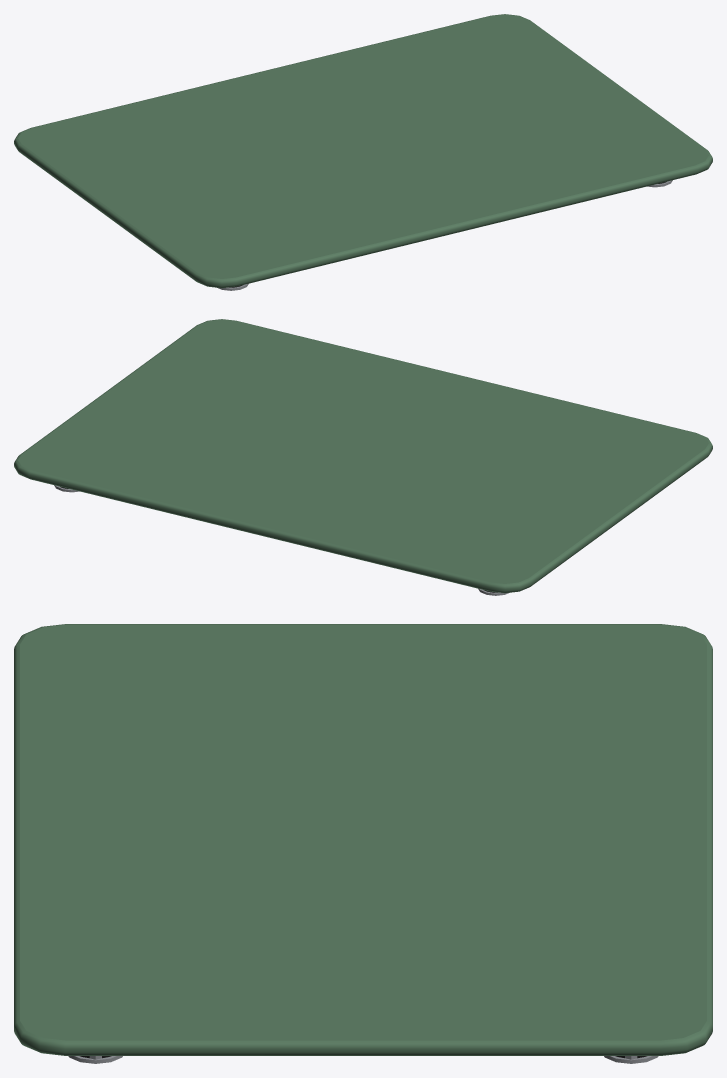
Rendered from t60_mounts.obj.
3 renders of one model, top to bottom at view 1: azimuth 30°, elevation 25°; view 2: azimuth 150°, elevation 25°; view 3: azimuth 270°, elevation 25°, orthographic. The views are drawn at different scales.
Parts seen in each view (by area): view 1: t60_mounts; view 2: t60_mounts; view 3: t60_mounts.
Boxes of the visible parts, x1,y1,x2,y2 form: t60_mounts: [14, 14, 712, 290]; t60_mounts: [14, 319, 712, 595]; t60_mounts: [14, 624, 712, 1063].
Bounding box in the file's own units: 4.88 × 0.24 × 3.42.
